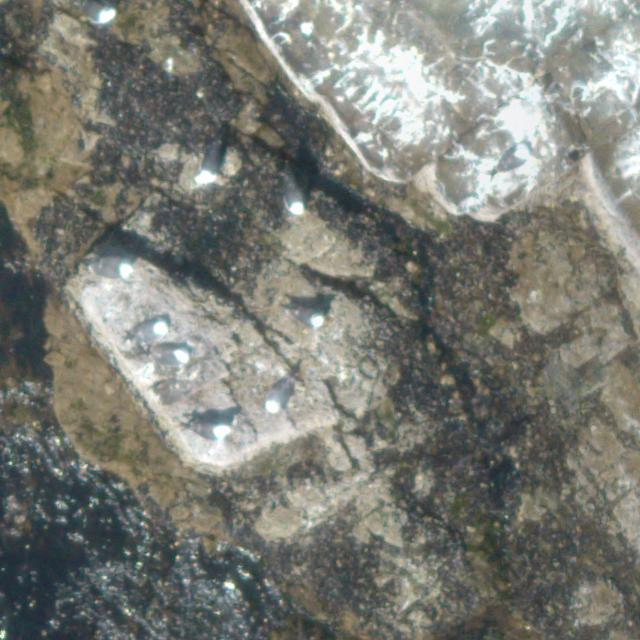umineko: (197, 134, 226, 184), (88, 257, 136, 277), (266, 382, 292, 411), (80, 3, 114, 25), (286, 181, 306, 214), (157, 348, 190, 367), (187, 420, 226, 436), (290, 307, 324, 325), (136, 320, 164, 340)
